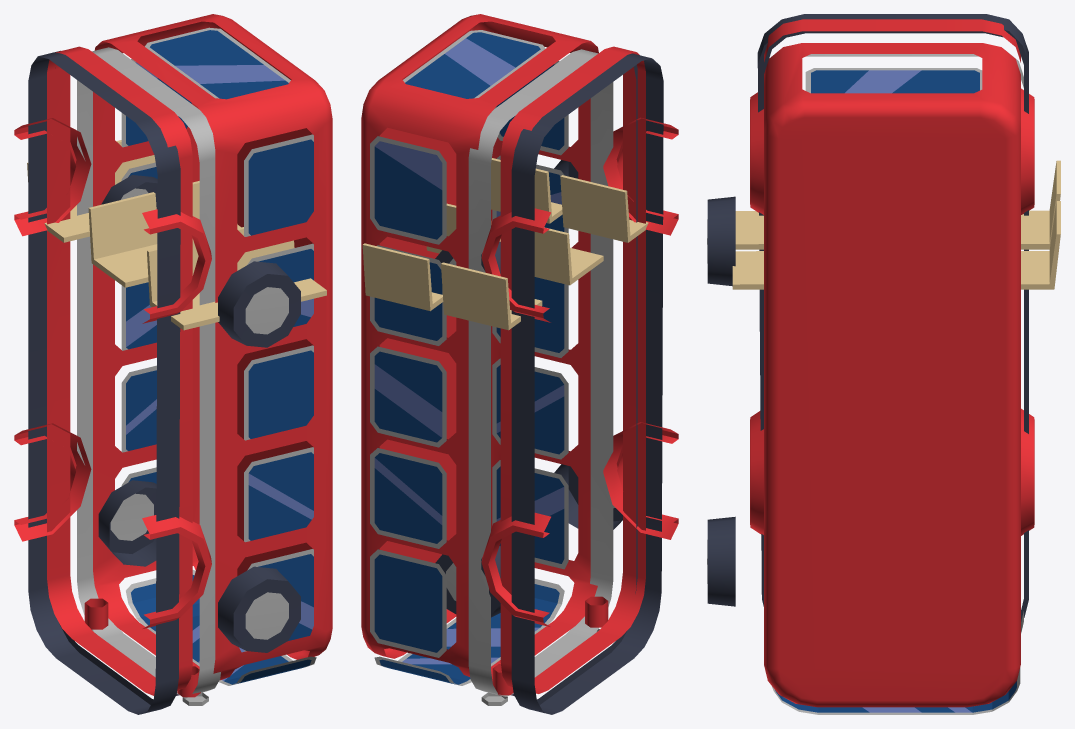
File: toon_bus_.fbx
The picture shows the model from 3 angles, left to right: view 1: azimuth 30°, elevation 25°; view 2: azimuth 150°, elevation 25°; view 3: azimuth 270°, elevation 25°; orthographic projection. The views are drawn at different scales.
Parts seen in each view (by area): view 1: bus_color, bus_open, bus_wheel, Object003, object 5, Object002; view 2: bus_open, bus_color, Object002, object 5, Object003, bus_wheel; view 3: bus_color, bus_open, bus_wheel, Object002, object 5.
Part boxes in pixels (x1,y1,x2,y2): bus_color: [14, 14, 332, 697]; bus_open: [28, 27, 316, 714]; bus_wheel: [98, 175, 300, 652]; Object003: [88, 181, 240, 287]; object 5: [147, 227, 326, 330]; Object002: [27, 140, 155, 242]; bus_open: [370, 30, 663, 714]; bus_color: [361, 14, 678, 695]; Object002: [362, 243, 542, 330]; object 5: [491, 158, 648, 242]; Object003: [426, 203, 603, 285]; bus_wheel: [435, 160, 622, 617]; bus_color: [750, 19, 1034, 707]; bus_open: [757, 14, 1028, 714]; bus_wheel: [707, 196, 735, 606]; Object002: [1021, 160, 1060, 289]; object 5: [732, 211, 763, 289].
Size of the model in its own units: 24.65 by 72.27 by 37.09.
